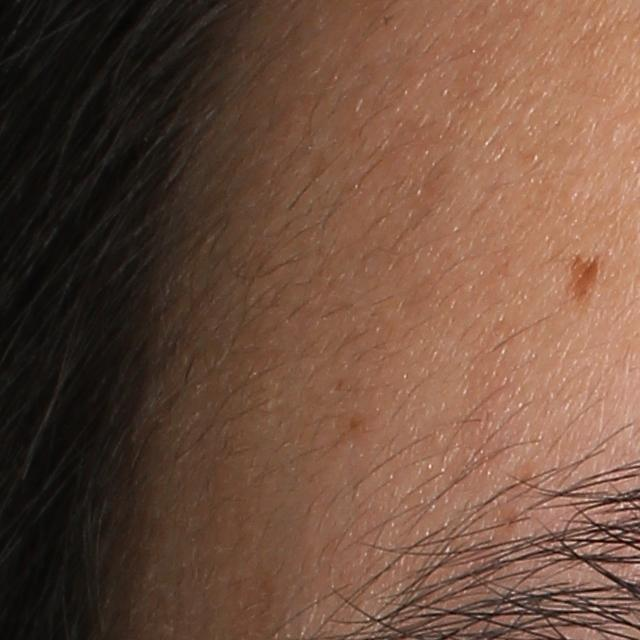nevus: (563, 253, 604, 306)
